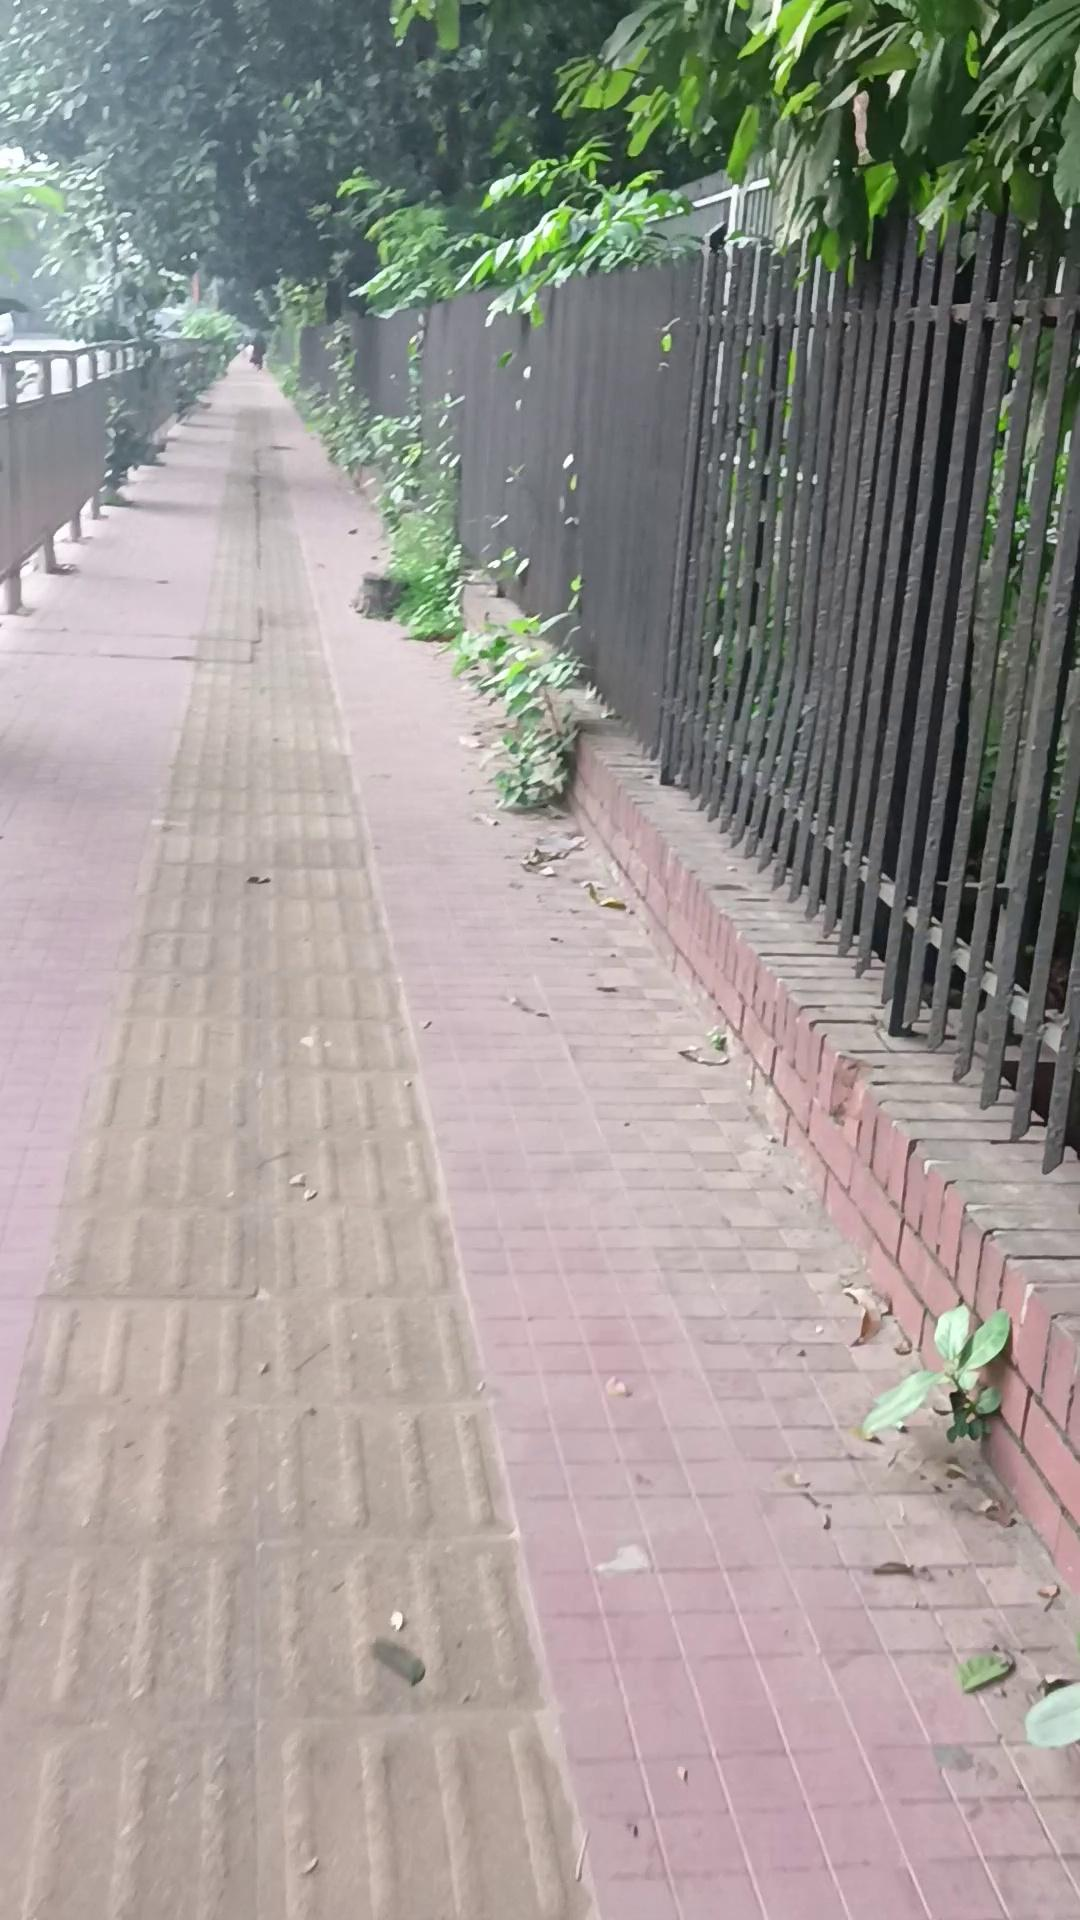Crosswalk: (456, 568, 1077, 1606)
Muddy road: (248, 328, 266, 369)
Potted-plant: (7, 376, 1080, 1920)
